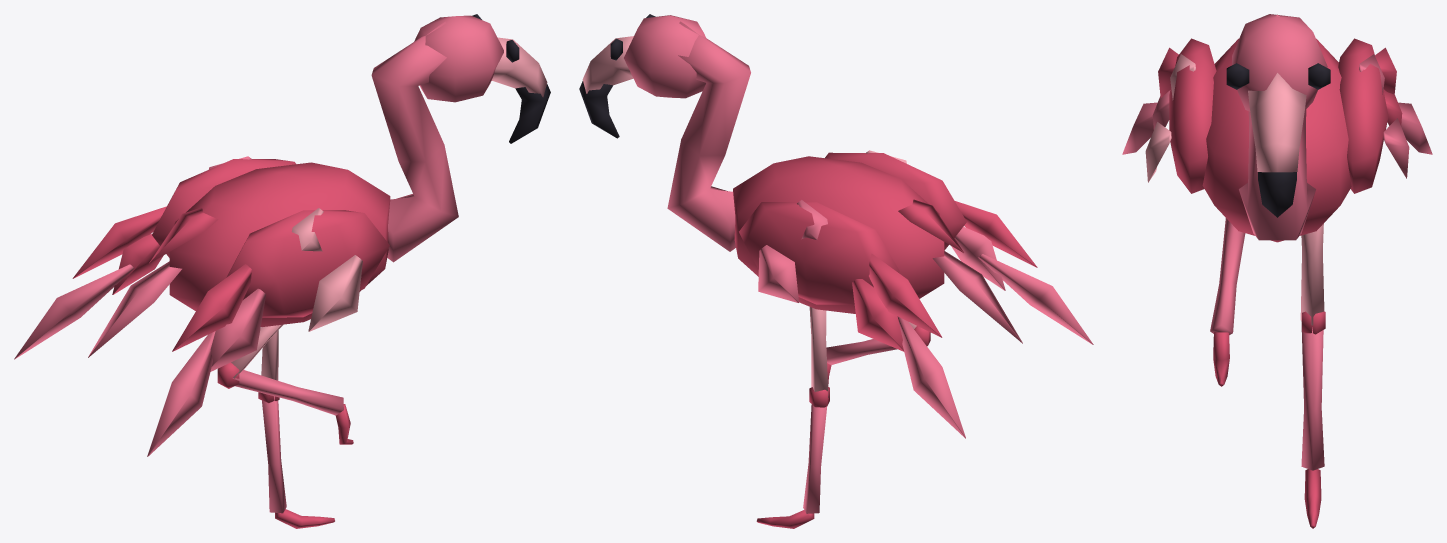
The model's file is amb.flamingo.lod1.glb.
3 views of the same model, side by side, from view 1: azimuth 30°, elevation 25°; view 2: azimuth 150°, elevation 25°; view 3: azimuth 270°, elevation 25° (orthographic). The views are drawn at different scales.
Parts seen in each view (by area): view 1: body, neck, wingR, head, handR, handL, wingL, foreArmR, shinR, tail, shinL, legL (+1 smaller); view 2: body, neck, wingL, head, handL, handR, wingR, tail, shinL, foreArmL, legL, shinR (+1 smaller); view 3: head, body, wingR, wingL, neck, shinL, shinR, handR, legL, handL, foreArmR, foreArmL (+2 smaller).
Part boxes in pixels (x1,y1,x2,y2): body: (149,162,390,327); neck: (371,21,458,262); wingR: (226,208,389,317); head: (414,14,550,143); handR: (147,264,265,456); handL: (14,206,166,359); wingL: (152,156,296,257); foreArmR: (308,255,362,331); shinR: (217,362,343,415); tail: (88,261,181,357); shinL: (258,392,286,513); legL: (261,330,278,380); body: (733,156,963,313); neck: (667,21,750,251); wingL: (739,200,899,304); head: (579,14,706,138); handL: (852,253,965,438); handR: (951,201,1093,344); wingR: (825,150,966,250); tail: (932,251,1022,343); shinL: (803,387,829,513); foreArmL: (758,245,798,302); legL: (809,307,828,397); shinR: (826,326,930,364); head: (1226,14,1330,217); body: (1202,38,1351,242); wingR: (1169,38,1216,193); wingL: (1338,38,1388,193); neck: (1239,14,1315,240); shinL: (1301,311,1325,470); shinR: (1210,218,1245,334); handR: (1122,47,1178,154); legL: (1300,223,1324,325); handL: (1375,47,1432,154); foreArmR: (1145,122,1171,182); foreArmL: (1383,118,1409,178).
Size of the model in its own units: 1.58 by 1.58 by 0.7773.
